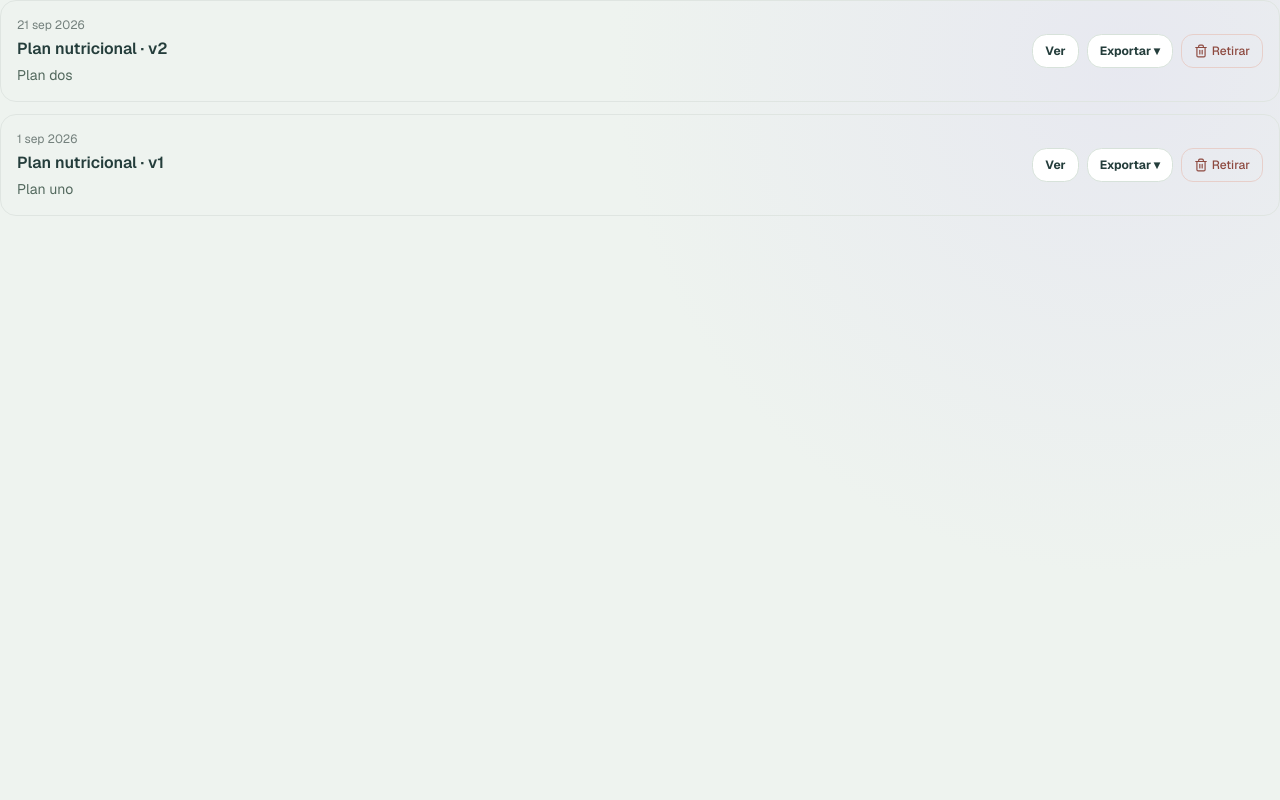
Test: informs when retiring the version shared in Super Link
The image size is (1280, 800).
Click the button with aria-label "Retirar versión 2 del historial" at (1222, 51), box [1181, 34, 1263, 68]
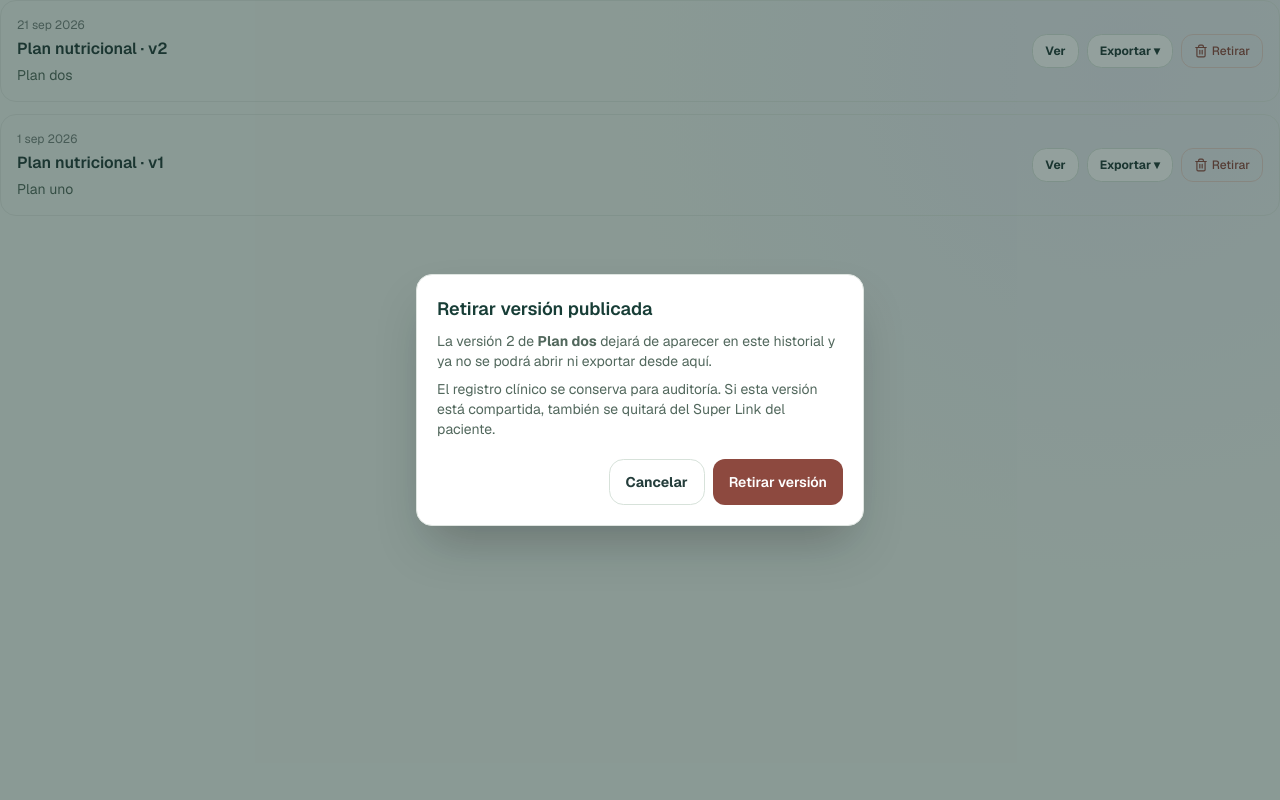
Click the button "Retirar versión" at (778, 482), box [713, 459, 843, 505]
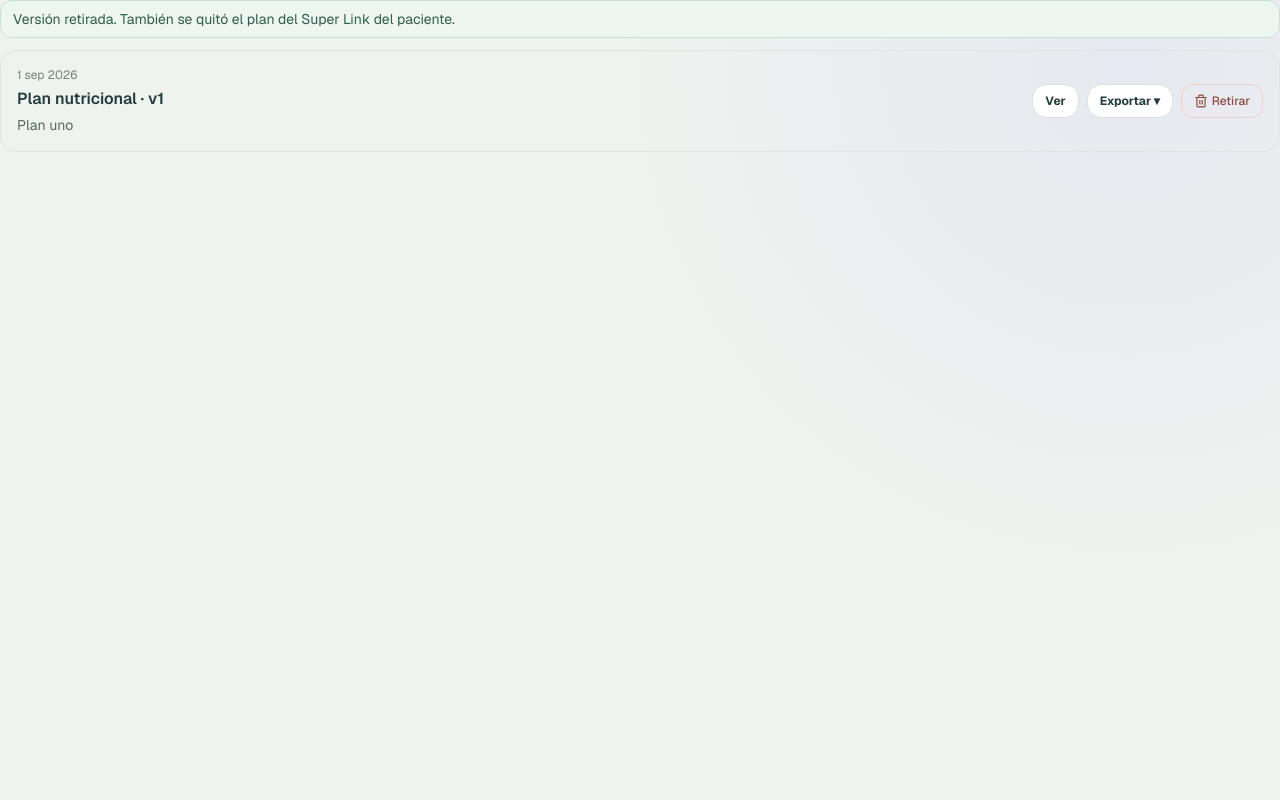
Result: the message shows "También se quitó el plan del Super Link" at [13, 10, 455, 28]
